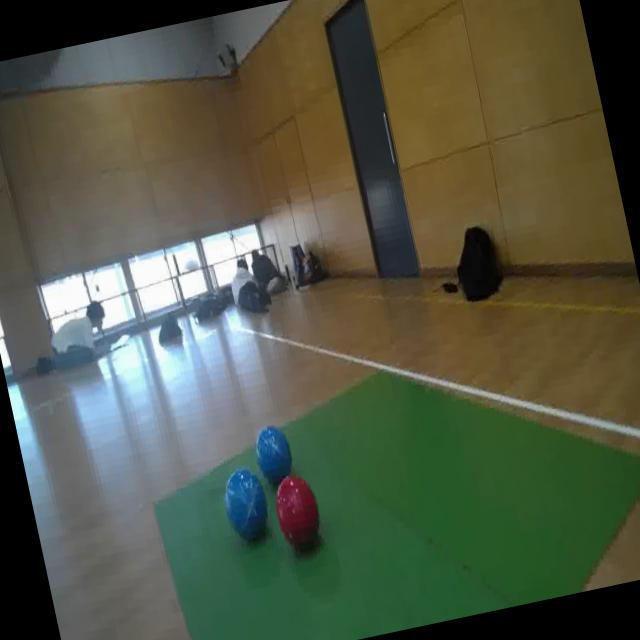blue_ball: (217, 460, 274, 544), (248, 416, 298, 489)
red_ball: (267, 468, 328, 557)
